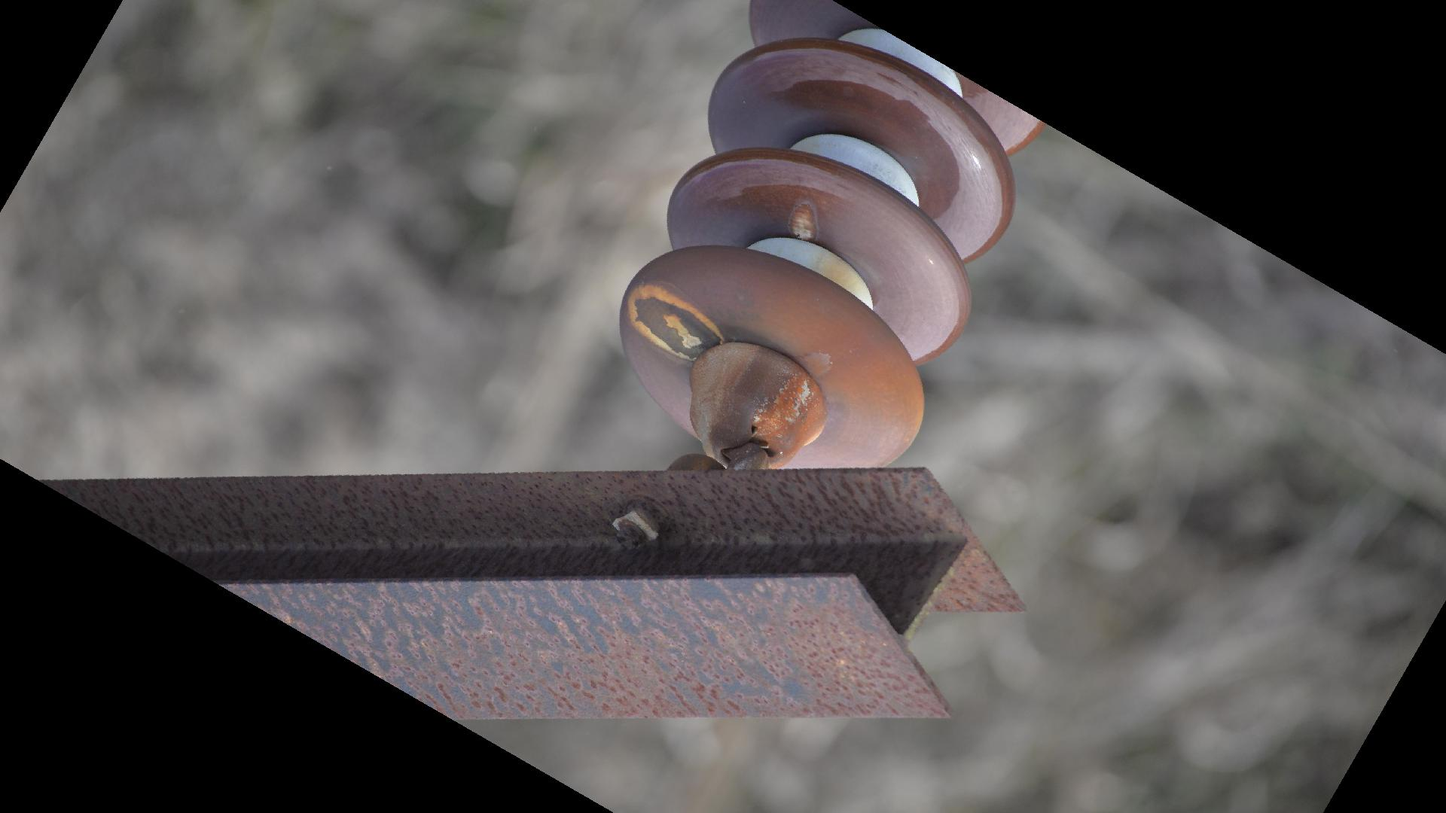insulator: (614, 1, 1042, 480)
insulator_flashover: (624, 278, 730, 365), (784, 196, 823, 247)
